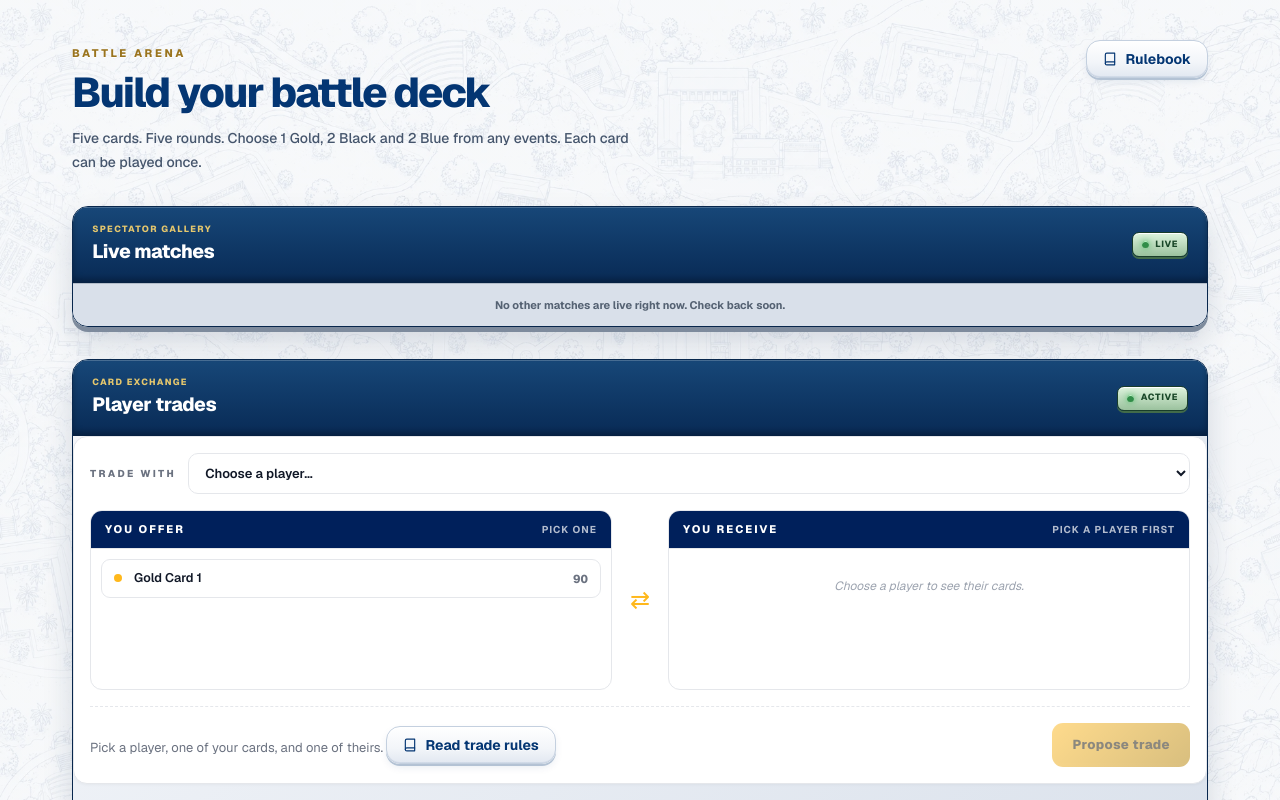
Test case: shows an error when proposing a trade fails
Expected: the heading "Player trades" is shown, 92,392 -> 216,420
Select "Thandi M. · thandi@wits.ac.za" in the dropdown labelled "Trade with". click: (689, 474)
box: 188,453 -> 1190,494
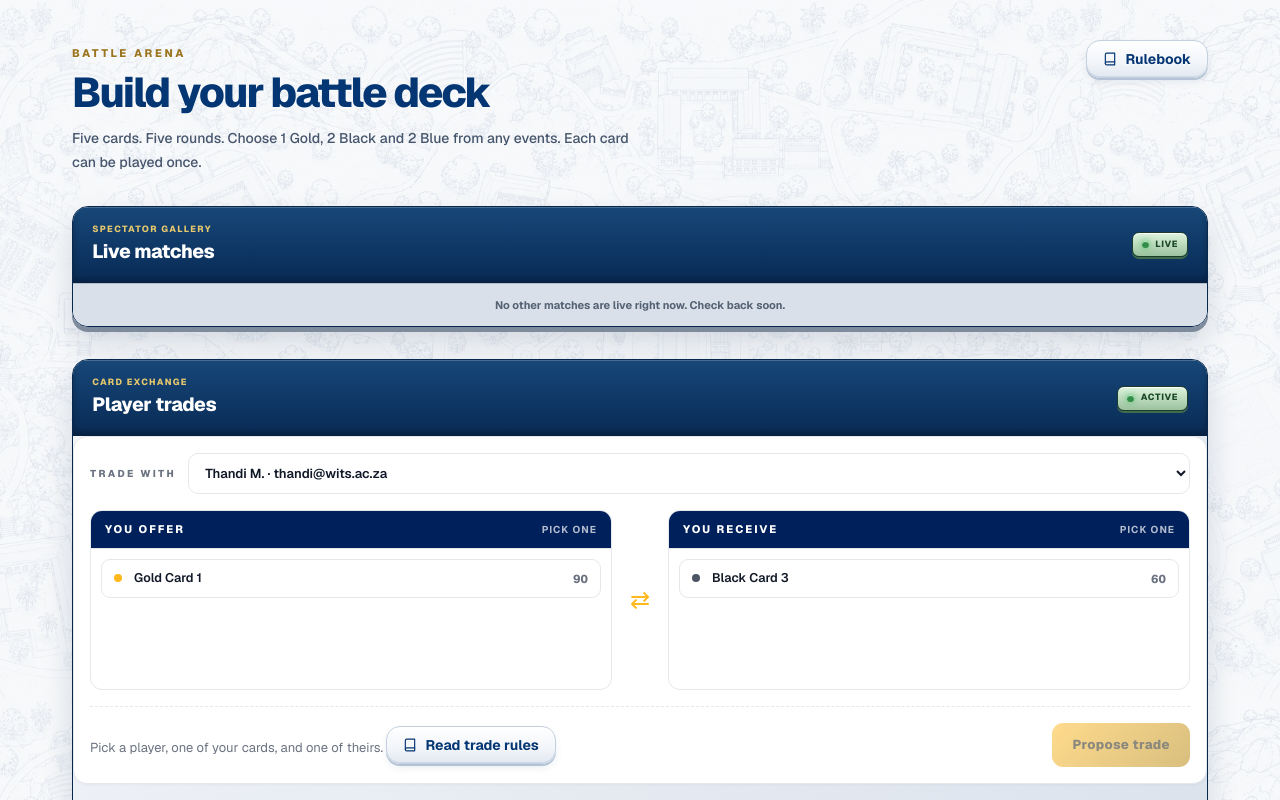
Expected: the radio button labelled "Black Card 3 60" is shown, 679,559 -> 1179,598
Click the radio button labelled "Gold Card 1 90". click: (168, 577)
box: 101,559 -> 601,598
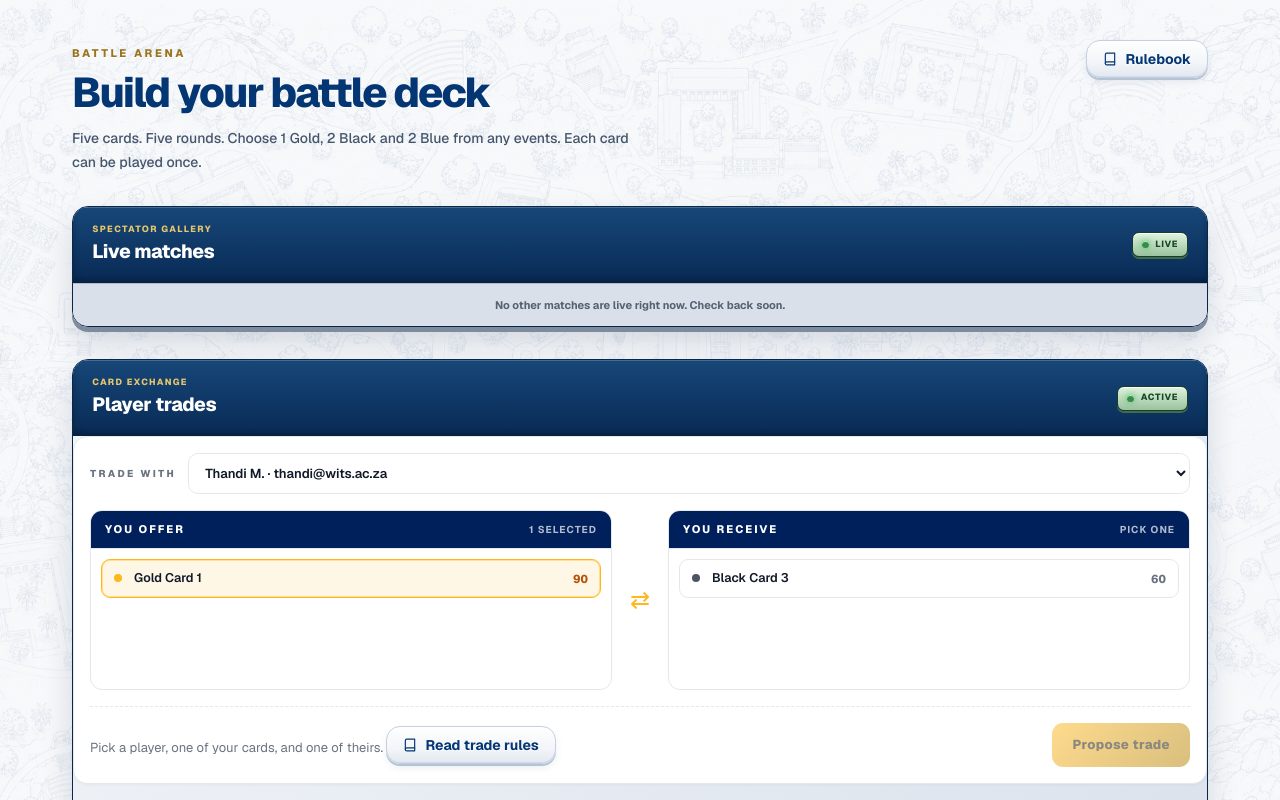
Click the radio button labelled "Black Card 3 60". click: (750, 577)
box: 679,559 -> 1179,598
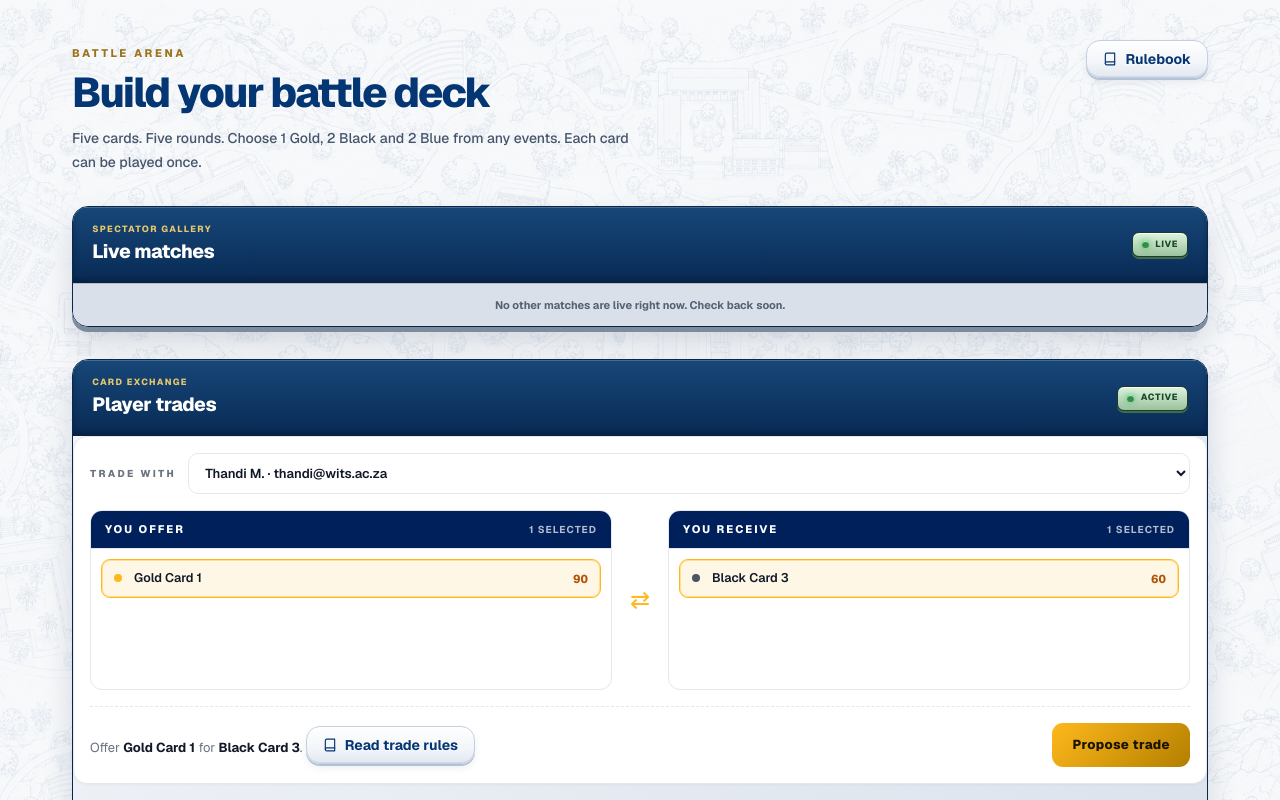
Click the button "Propose trade". click: (1121, 745)
box: 1052,723 -> 1190,767
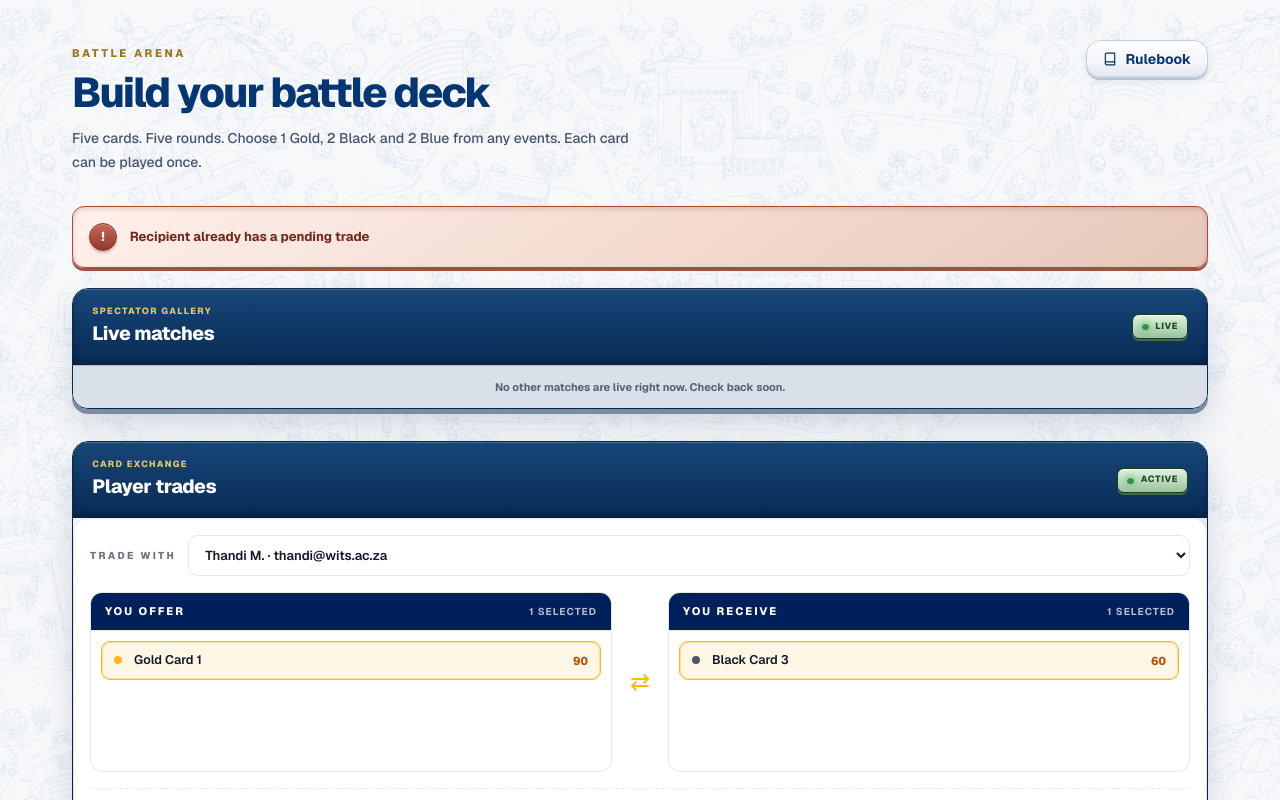
Expected: the message shows "Recipient already has a pending trade", 130,228 -> 369,245
